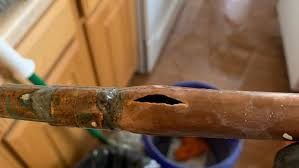rupture: (130, 91, 190, 112)
